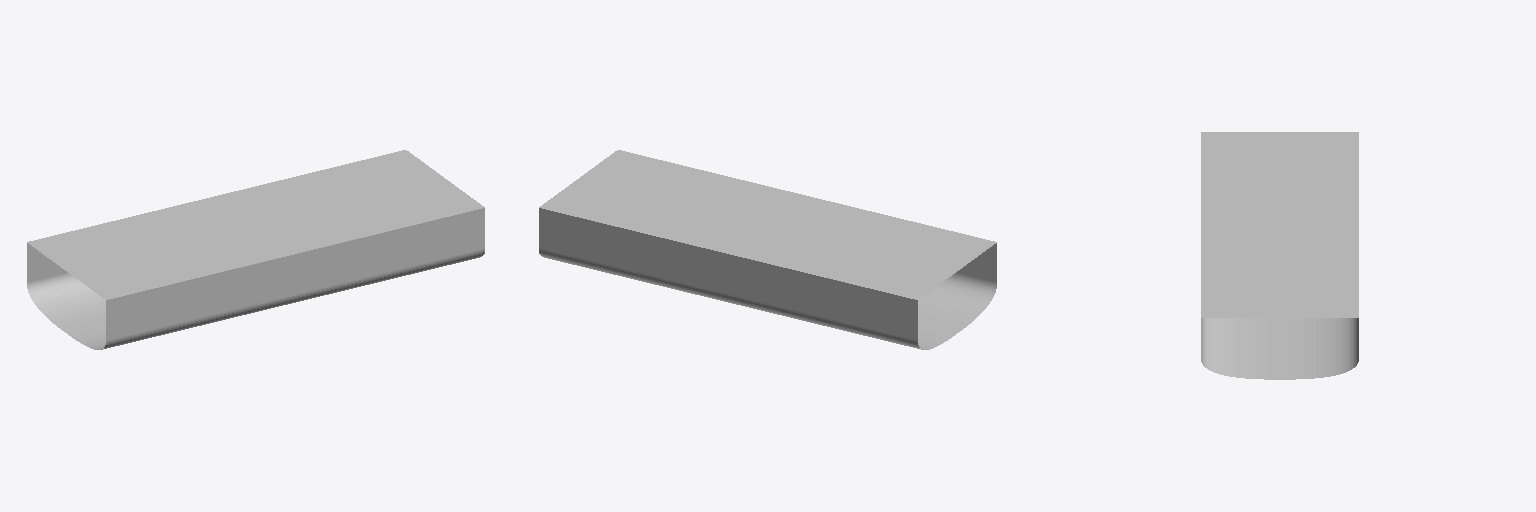
The model's file is basketball hoop_.obj.
3 views of the same model, side by side, from view 1: azimuth 30°, elevation 25°; view 2: azimuth 150°, elevation 25°; view 3: azimuth 270°, elevation 25° (orthographic).
Parts seen in each view (by area): view 1: Plane002; view 2: Plane002; view 3: Plane002.
Part boxes in pixels (x1,y1,x2,y2): Plane002: (27,150,484,349); Plane002: (539,150,996,349); Plane002: (1201,132,1358,379).
Bounding box in the file's own units: 3823 × 597 × 1386.